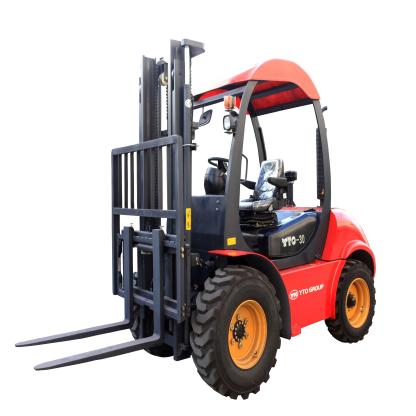forklift: (13, 38, 376, 401)
